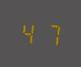four: (19, 18, 39, 46)
seven: (40, 20, 60, 48)
